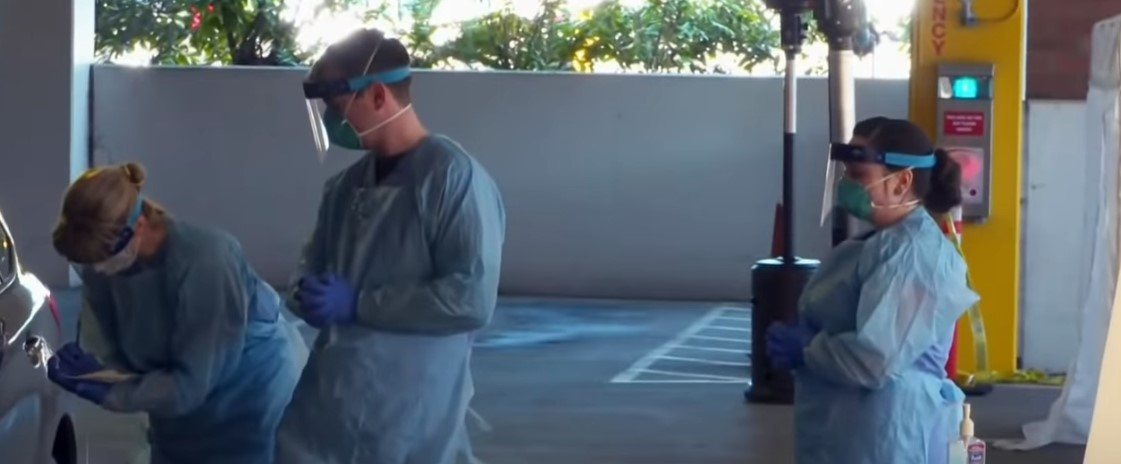face_with_mask: (302, 33, 411, 153), (828, 122, 934, 228)
